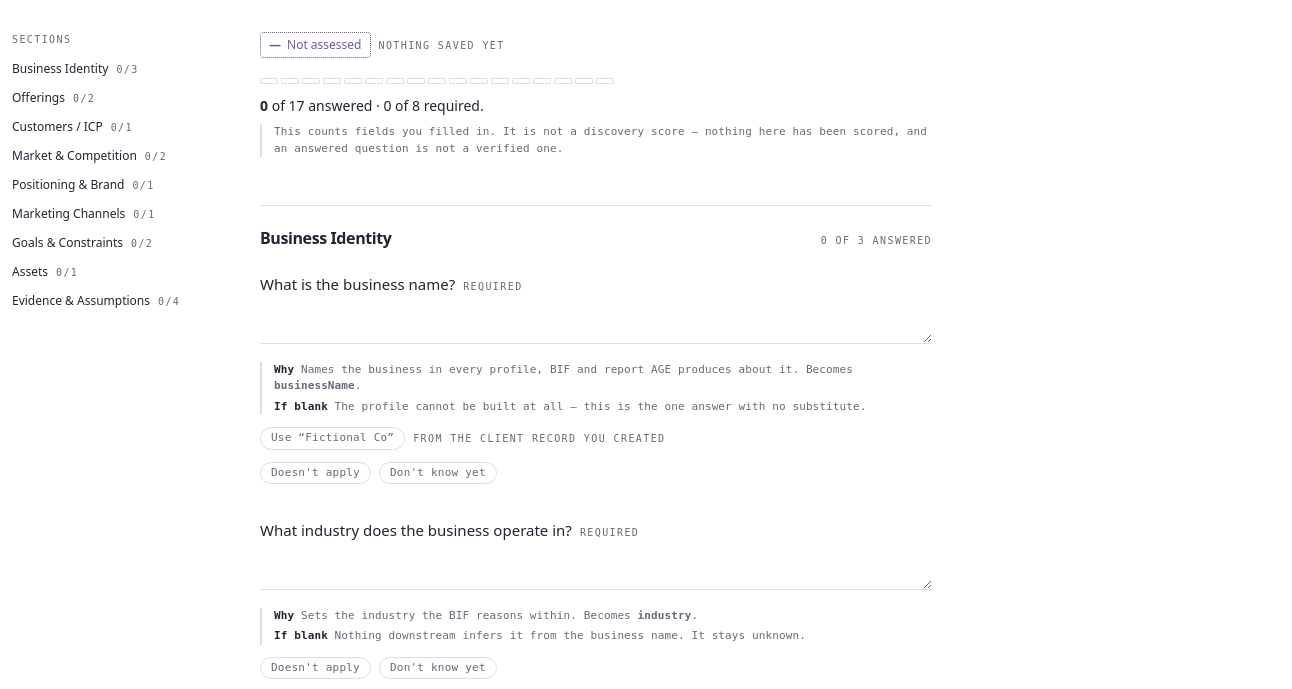
Test: DiscoveryForm › assisted intake (ADR-0059 D6) › proposes a record fact and NEVER fills it in
expect the text box labelled "What is the business name?required" is empty: met, box [260,303,932,344]
Click the button "Use “Fictional Co”".
click(333, 438)  # box [260,427,405,450]
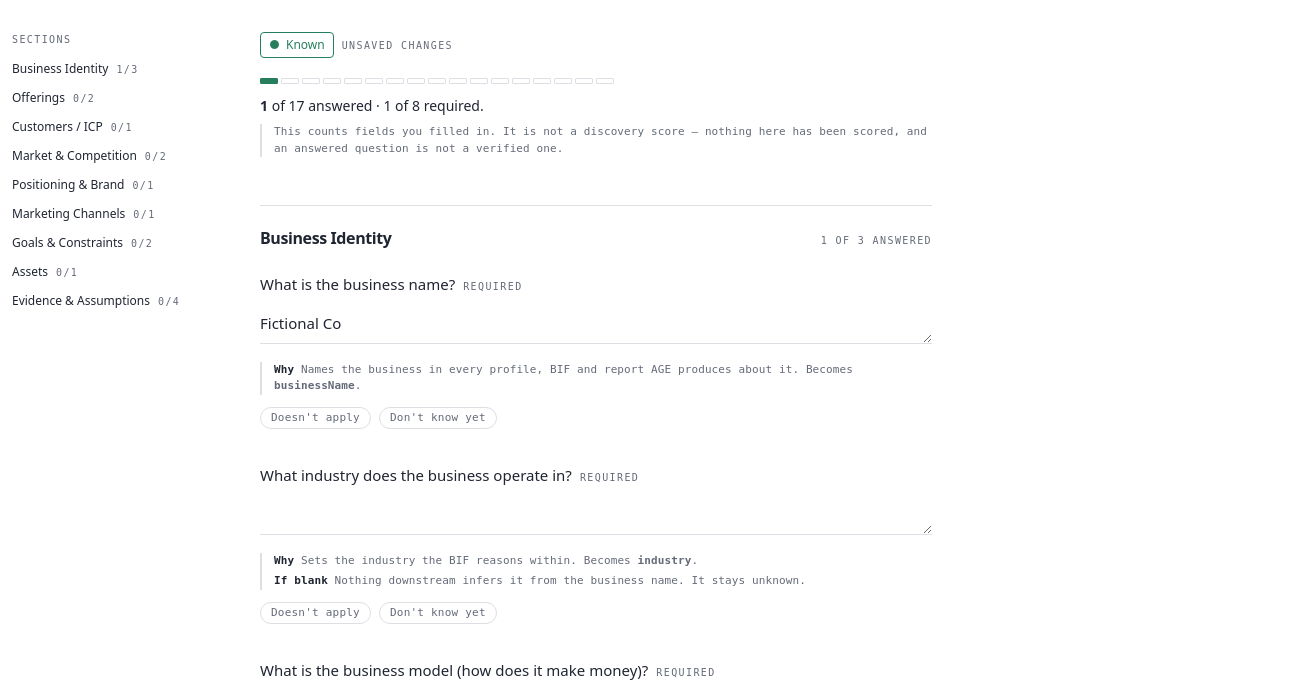
expect the text box labelled "What is the business name?required" holds "Fictional Co": met, box [260,303,932,344]
